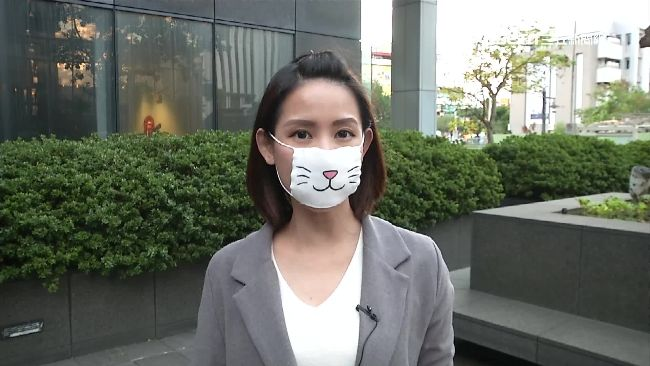mask: (277, 142, 364, 209)
